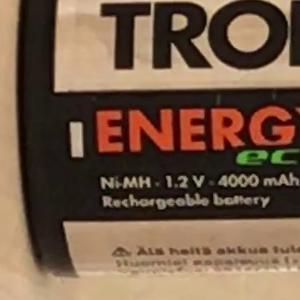keyword: (92, 167, 159, 198)
